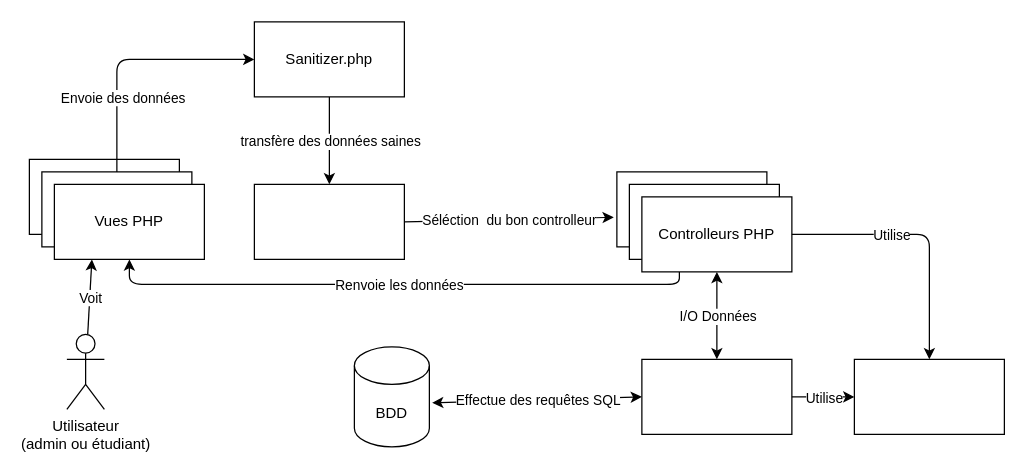
Some shapes in this 1026 by 476 pixel diagram are drawn without their labels. Here are the shapes that lost their labels. From the top down, the centre of each, then its label:
(328,221): Router.php
(716,396): Model.php
(928,396): Config.php
